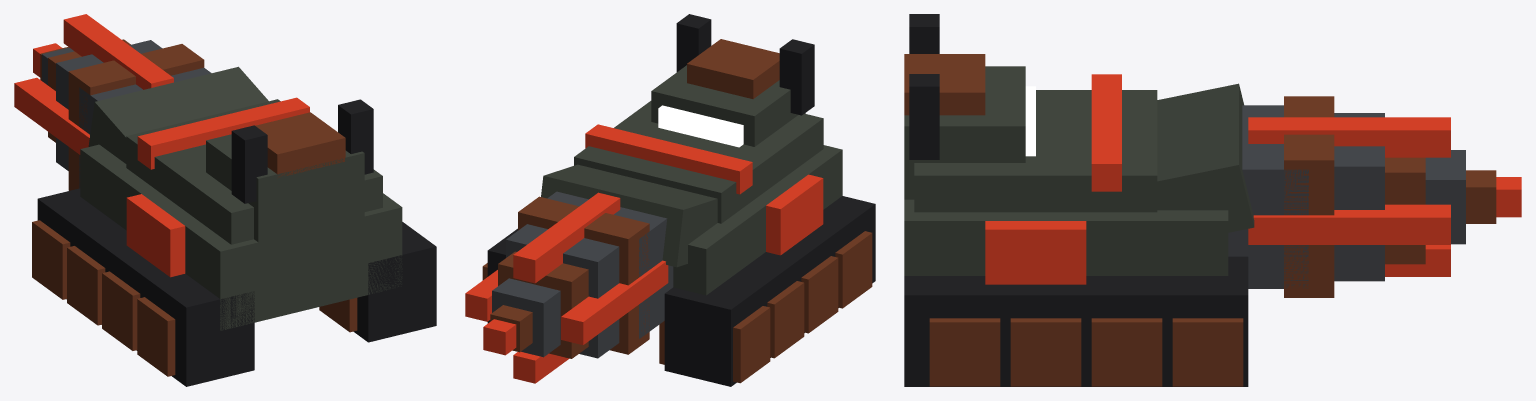
File: drillhead.glb
3 views of the same model, side by side, from view 1: azimuth 30°, elevation 25°; view 2: azimuth 150°, elevation 25°; view 3: azimuth 270°, elevation 25° (orthographic). The views are drawn at different scales.
Visible parts, largest first — view 1: P10_PirateHull, P00_Track, P13_PirateHull, P12_PirateHull, P11_PirateHull, P01_Track, P15_PirateRust, P22_PirateRust, P18_Hazard, P19_Hazard, P29_Hazard, P30_Hazard (+11 smaller); view 2: P00_Track, P11_PirateHull, P10_PirateHull, P12_PirateHull, P13_PirateHull, P22_PirateRust, P18_Hazard, P15_PirateRust, P23_Steel, P29_Hazard, P30_Hazard, P19_Hazard (+15 smaller); view 3: P01_Track, P11_PirateHull, P10_PirateHull, P12_PirateHull, P22_PirateRust, P21_Steel, P28_Hazard, P13_PirateHull, P20_Hazard, P29_Hazard, P23_Steel, P03_PirateRust (+13 smaller).
Part boxes in pixels (left/top/right/bottom): P10_PirateHull: left=80, top=144, right=402, bottom=330; P00_Track: left=37, top=188, right=254, bottom=386; P13_PirateHull: left=206, top=134, right=364, bottom=242; P12_PirateHull: left=88, top=66, right=268, bottom=163; P11_PirateHull: left=126, top=99, right=382, bottom=244; P01_Track: left=353, top=222, right=436, bottom=342; P15_PirateRust: left=255, top=112, right=345, bottom=178; P22_PirateRust: left=68, top=44, right=204, bottom=190; P18_Hazard: left=137, top=97, right=309, bottom=169; P19_Hazard: left=126, top=194, right=185, bottom=277; P29_Hazard: left=63, top=14, right=173, bottom=89; P30_Hazard: left=14, top=77, right=89, bottom=154; P00_Track: left=664, top=196, right=875, bottom=386; P11_PirateHull: left=574, top=101, right=823, bottom=223; P10_PirateHull: left=673, top=145, right=842, bottom=295; P12_PirateHull: left=541, top=164, right=717, bottom=267; P13_PirateHull: left=651, top=65, right=805, bottom=146; P22_PirateRust: left=518, top=196, right=649, bottom=354; P18_Hazard: left=585, top=124, right=752, bottom=194; P15_PirateRust: left=687, top=39, right=779, bottom=98; P23_Steel: left=506, top=224, right=619, bottom=358; P29_Hazard: left=513, top=192, right=620, bottom=283; P30_Hazard: left=561, top=260, right=668, bottom=344; P19_Hazard: left=766, top=174, right=823, bottom=255; P01_Track: left=904, top=256, right=1248, bottom=386; P11_PirateHull: left=914, top=90, right=1157, bottom=212; P10_PirateHull: left=904, top=199, right=1228, bottom=275; P12_PirateHull: left=1157, top=83, right=1254, bottom=232; P22_PirateRust: left=1284, top=96, right=1334, bottom=297; P21_Steel: left=1228, top=105, right=1308, bottom=288; P28_Hazard: left=1248, top=204, right=1450, bottom=244; P13_PirateHull: left=904, top=66, right=1025, bottom=199; P20_Hazard: left=985, top=221, right=1086, bottom=284; P29_Hazard: left=1248, top=117, right=1450, bottom=157; P23_Steel: left=1334, top=113, right=1384, bottom=281; P03_PirateRust: left=1172, top=318, right=1243, bottom=386.
Size of the model in its own units: 35 by 29 by 61.
